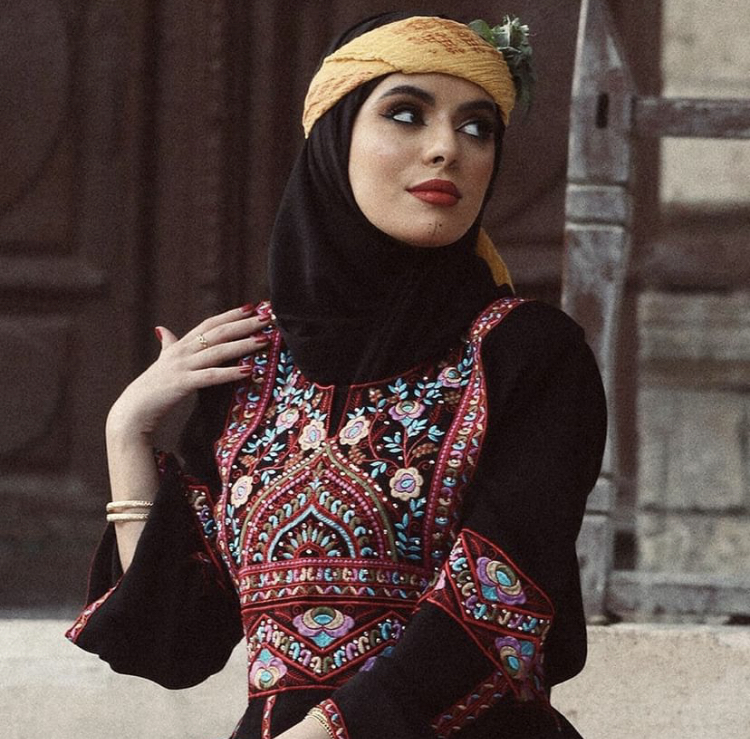Saudi_Founding_Day: (60, 13, 611, 739)
